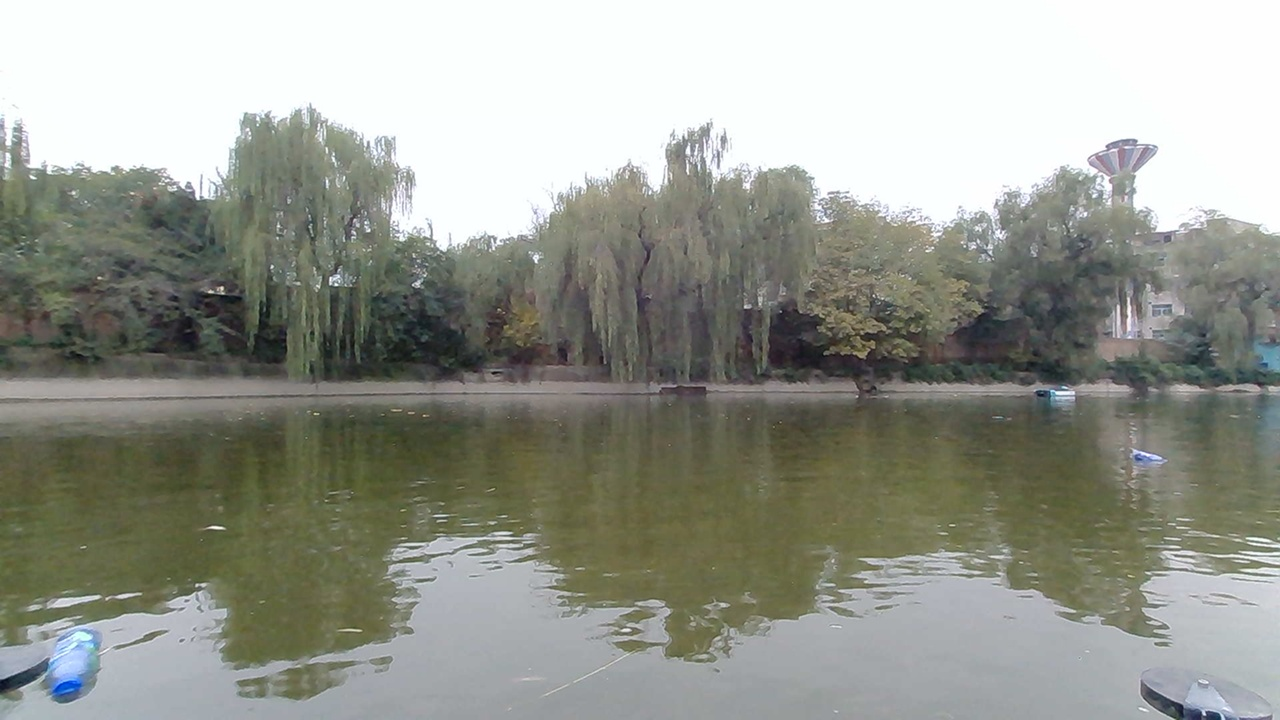bottle: (40, 628, 102, 700), (1125, 444, 1170, 478)
